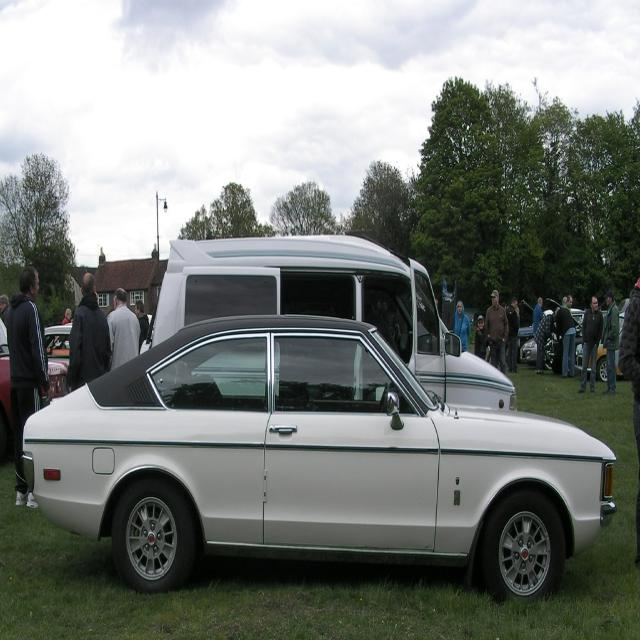car: (21, 312, 616, 596)
